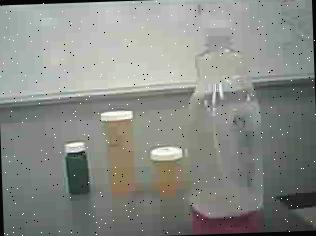Bottle A: (98, 108, 140, 198)
Bottle B: (146, 140, 188, 198)
Bottle C: (61, 139, 95, 200)
hazard: (182, 0, 275, 234)
